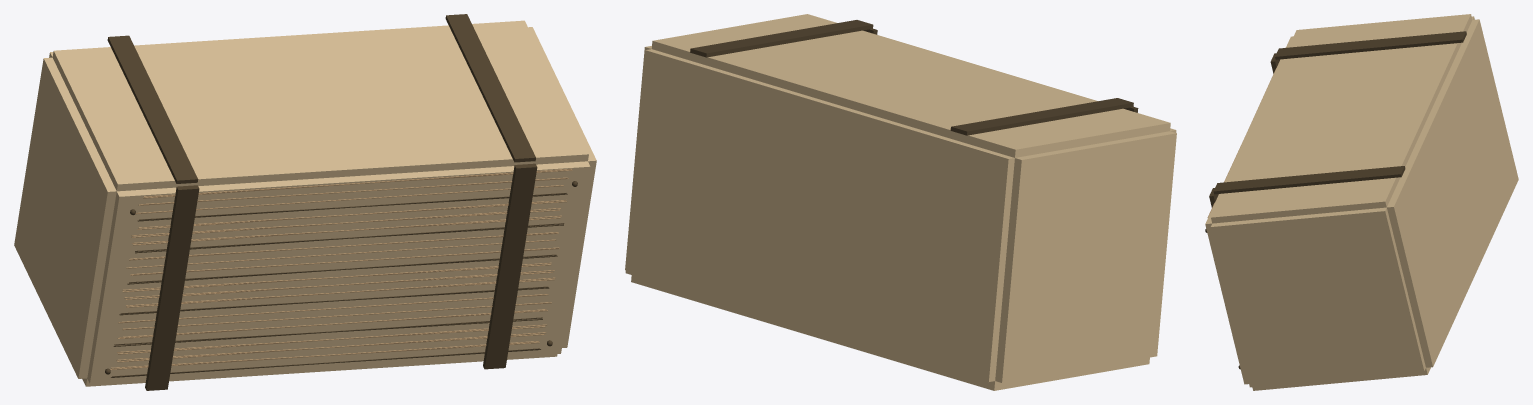
File: wood-case-sealed.glb
3 views of the same model, side by side, from view 1: azimuth 30°, elevation 25°; view 2: azimuth 150°, elevation 25°; view 3: azimuth 270°, elevation 25° (orthographic). The views are drawn at different scales.
Visible parts, largest first — view 1: Six-bottle sealed wooden case; view 2: Six-bottle sealed wooden case; view 3: Six-bottle sealed wooden case.
Boxes of the visible parts, box(x1,y1,x2,y2) form: Six-bottle sealed wooden case: box(14, 14, 596, 390); Six-bottle sealed wooden case: box(625, 14, 1176, 390); Six-bottle sealed wooden case: box(1205, 14, 1518, 390).
Bounding box in the file's own units: 3.27 × 1.93 × 2.31.
